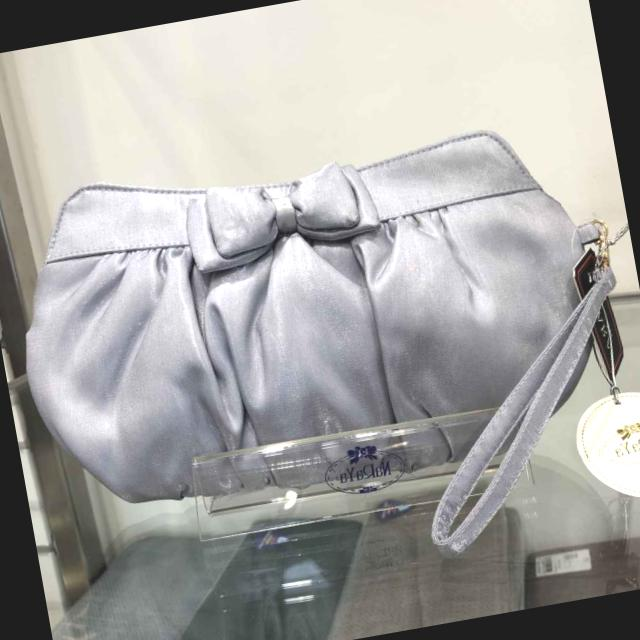Handbag: (0, 101, 640, 542)
